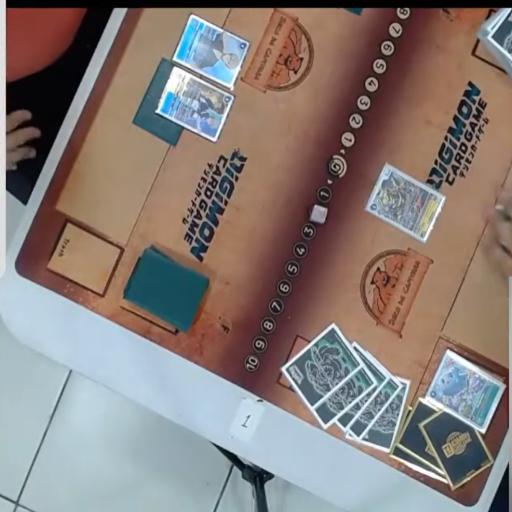card: (362, 162, 446, 240), (426, 349, 506, 426), (156, 66, 236, 142), (171, 12, 251, 88)
